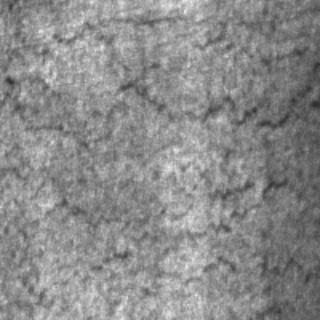crazing: (54, 0, 318, 132), (12, 178, 260, 302), (0, 15, 172, 192), (190, 173, 312, 315)
